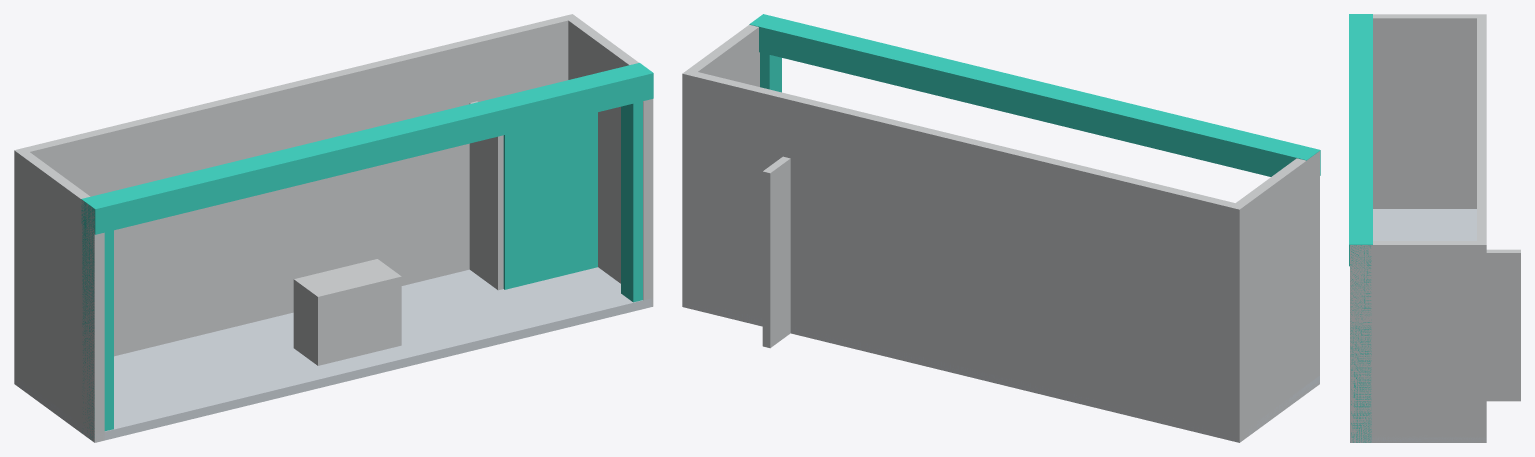
3 renders of one model, left to right at view 1: azimuth 30°, elevation 25°; view 2: azimuth 150°, elevation 25°; view 3: azimuth 270°, elevation 25°, orthographic. The views are drawn at different scales.
Parts seen in each view (by area): view 1: Exhibition Booth Concept; view 2: Exhibition Booth Concept; view 3: Exhibition Booth Concept.
Part boxes in pixels (bbox=[...]): Exhibition Booth Concept: bbox=[14, 14, 653, 442]; Exhibition Booth Concept: bbox=[682, 14, 1320, 442]; Exhibition Booth Concept: bbox=[1349, 14, 1520, 442].
Bounding box in the file's own units: 8 × 3.2 × 2.52.
